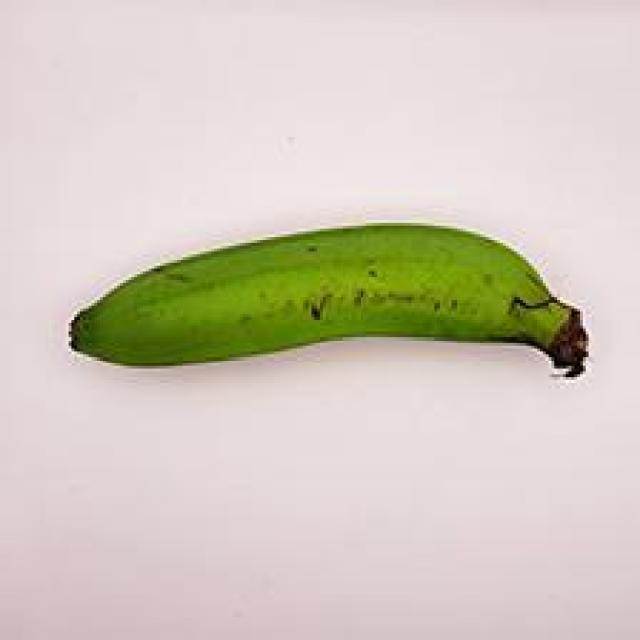Raw: (48, 187, 620, 432)
